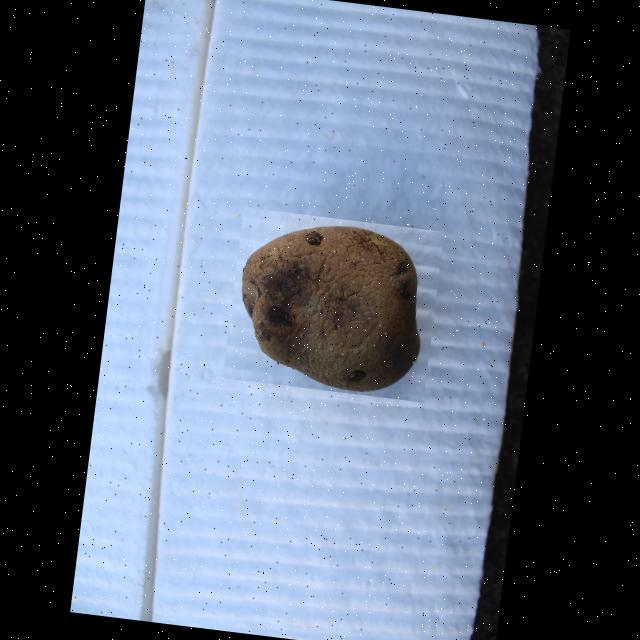Diseased-fungal potato: (222, 206, 443, 401)
